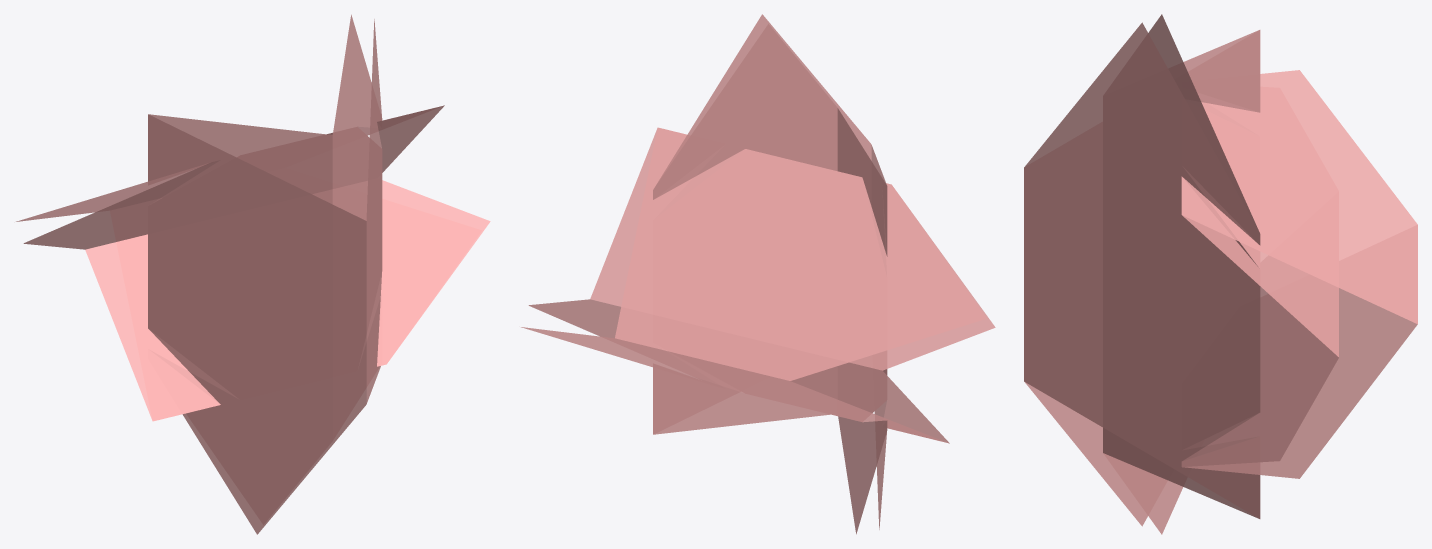
File: HendecagonalDodecahedron.obj
The picture shows the model from 3 angles, left to right: view 1: azimuth 30°, elevation 25°; view 2: azimuth 150°, elevation 25°; view 3: azimuth 270°, elevation 25°; orthographic projection. The views are drawn at different scales.
Size of the model in its own units: 9.6 by 9.6 by 6.
